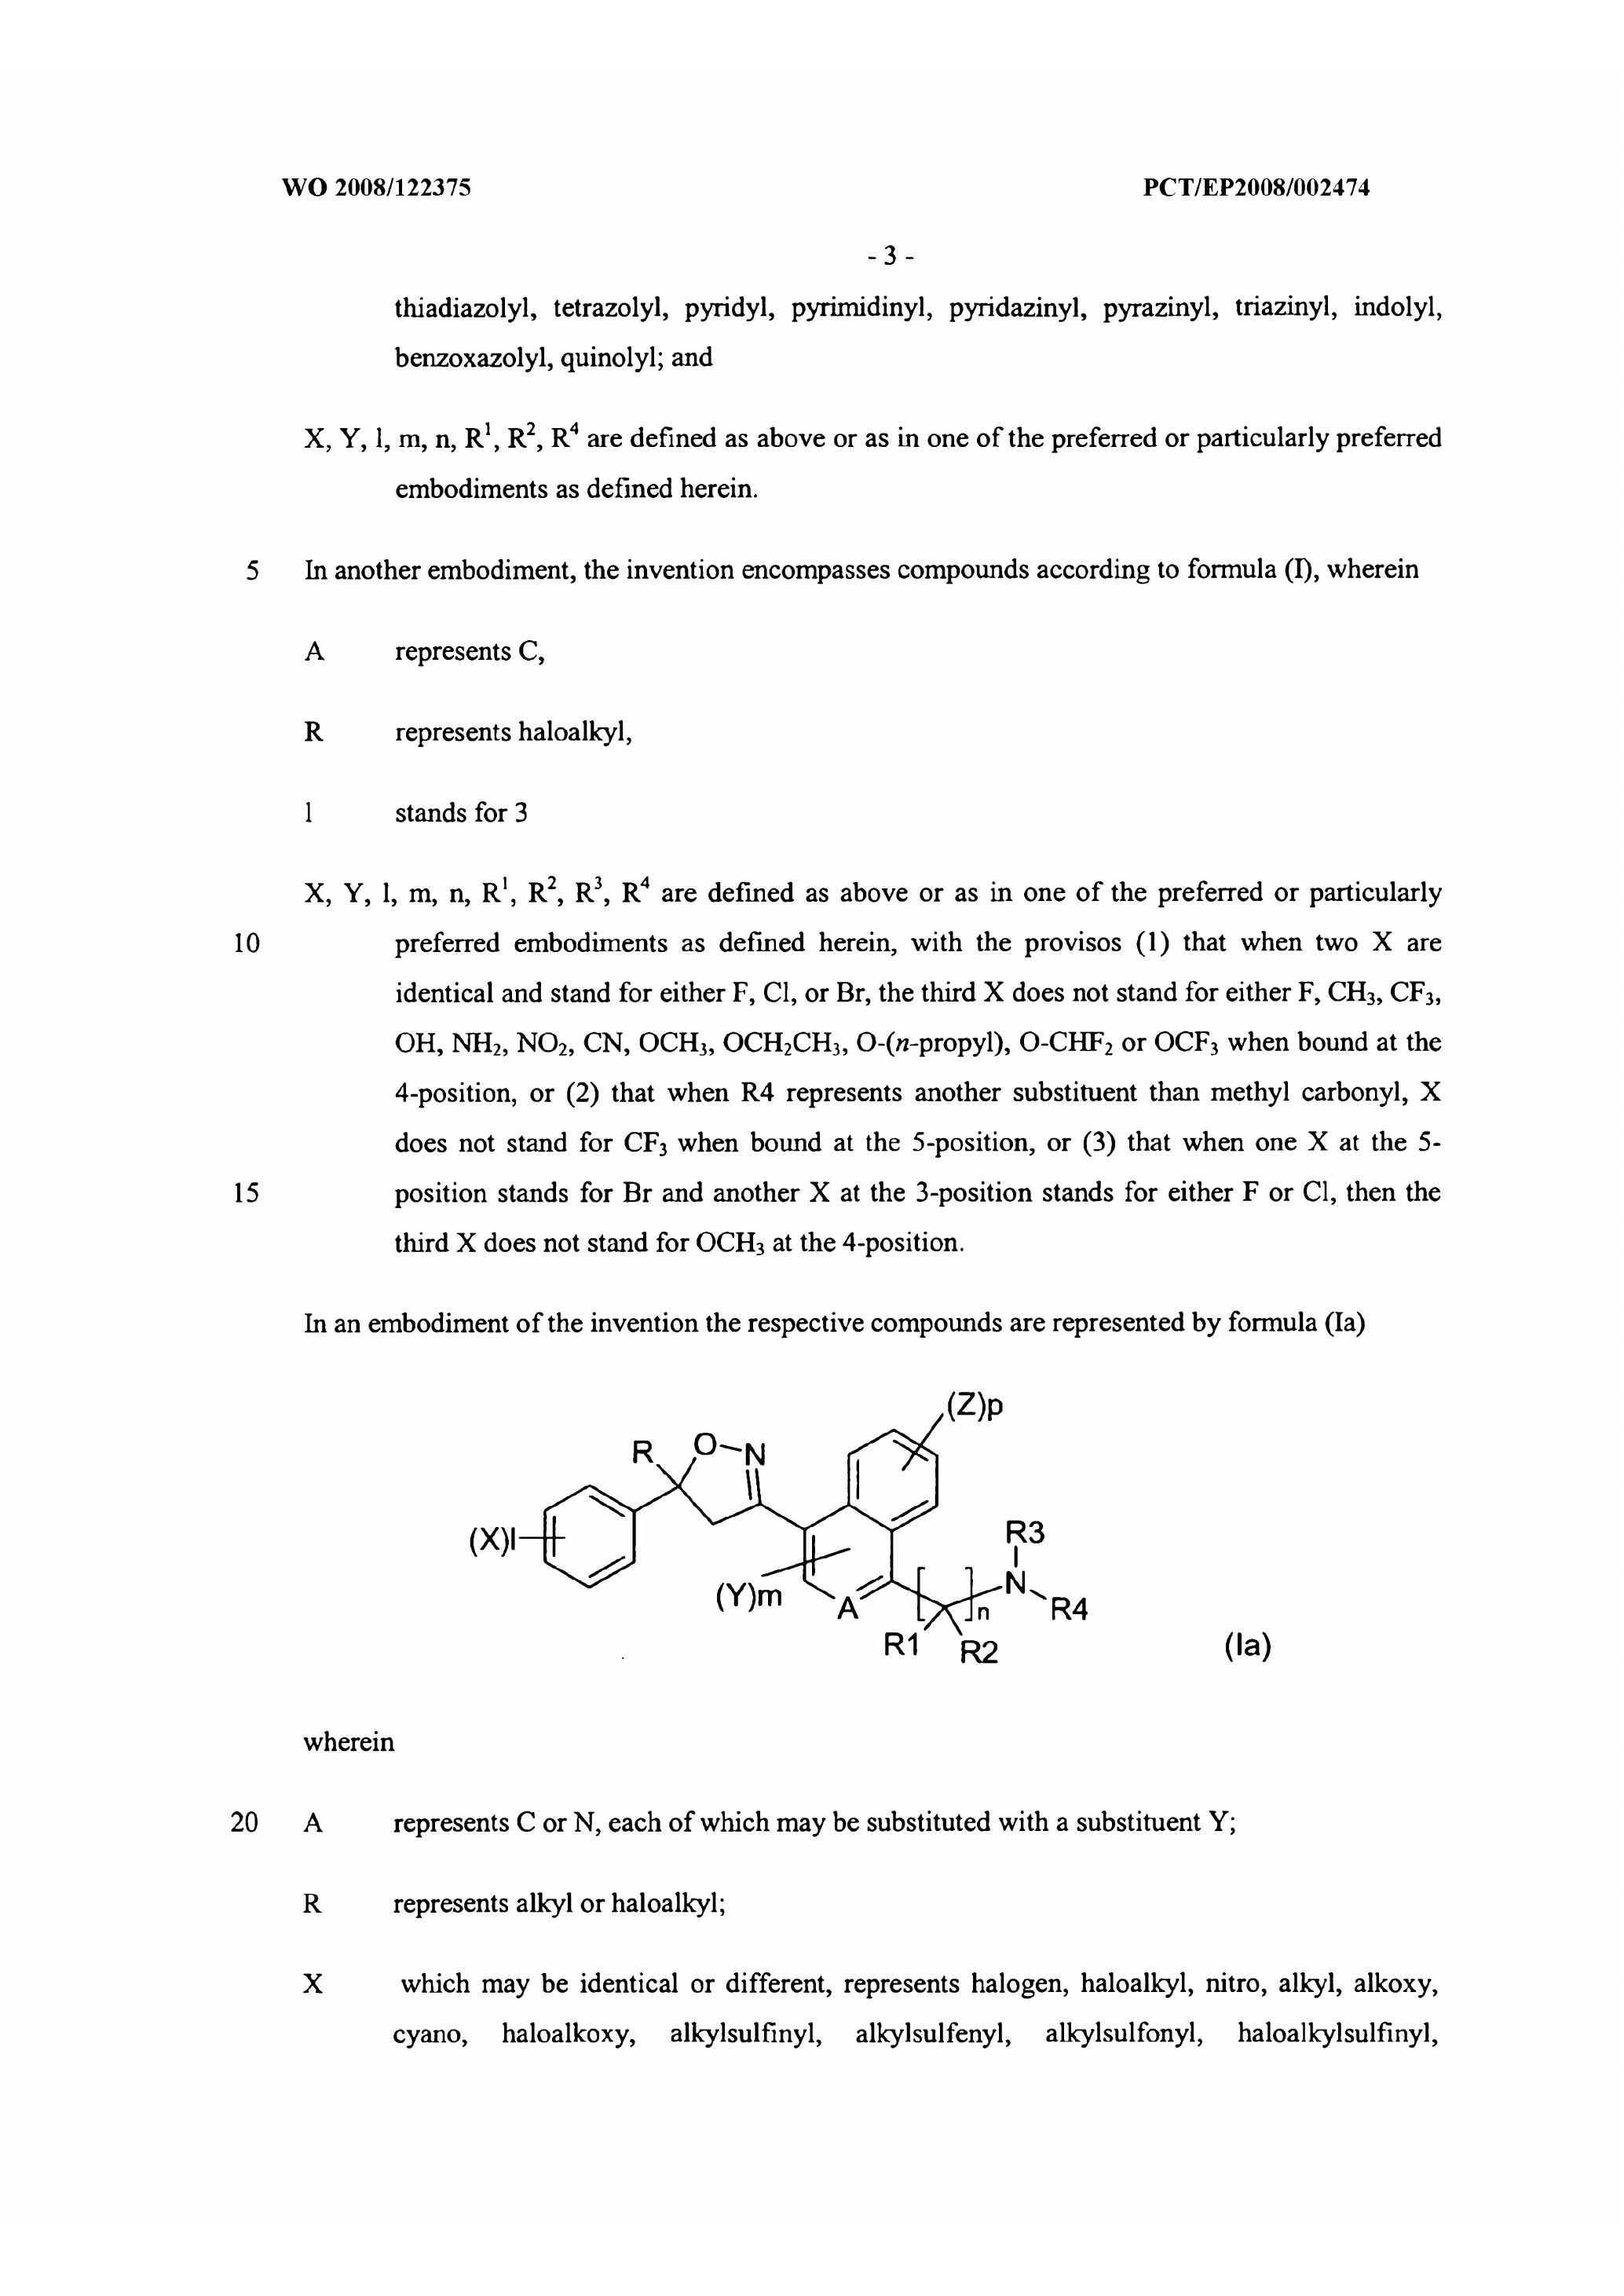markush-structures: (320, 1345, 1415, 1700)
